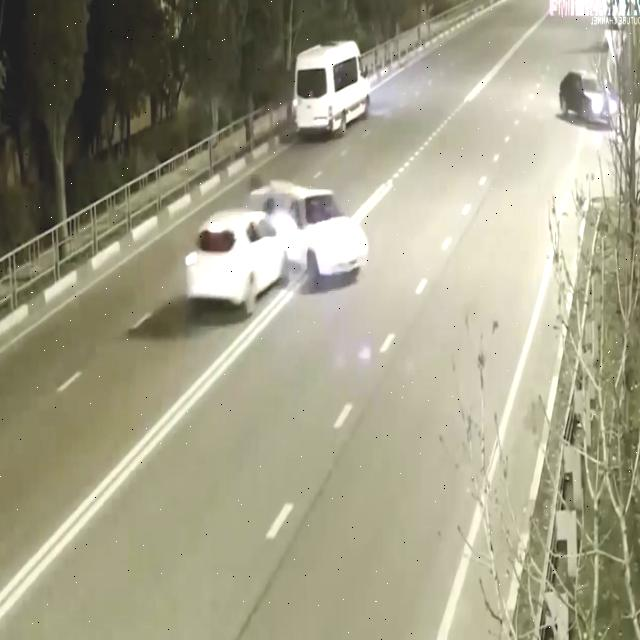accident: (172, 161, 377, 359)
